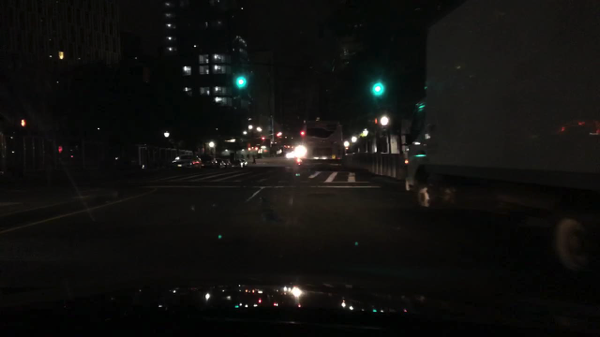bus: (300, 117, 346, 173)
car: (171, 153, 202, 172), (199, 153, 220, 169), (214, 157, 227, 169), (230, 159, 244, 169), (238, 157, 249, 167), (223, 158, 232, 169), (295, 153, 303, 163), (284, 151, 295, 158)
traffic light: (235, 73, 246, 90), (380, 115, 391, 126), (374, 81, 381, 97), (56, 142, 63, 153), (19, 118, 27, 127), (260, 135, 265, 141), (276, 132, 281, 137), (374, 117, 377, 125)
truck: (398, 0, 599, 271)
